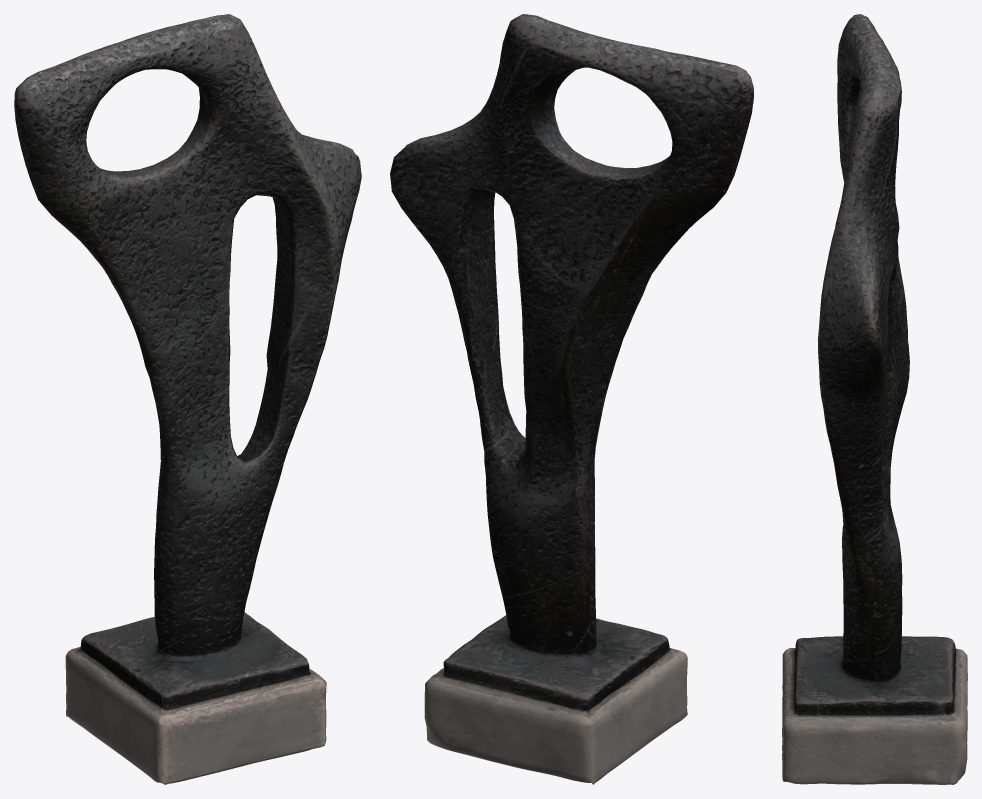
Rendered from Figure (Archaean).glb.
3 renders of one model, left to right at view 1: azimuth 30°, elevation 25°; view 2: azimuth 150°, elevation 25°; view 3: azimuth 270°, elevation 25°, orthographic. The views are drawn at different scales.
Parts seen in each view (by area): view 1: FigureArchaean_low; view 2: FigureArchaean_low; view 3: FigureArchaean_low.
Boxes of the visible parts, x1=… form: FigureArchaean_low: x1=14, y1=14, x2=361, y2=784; FigureArchaean_low: x1=390, y1=14, x2=753, y2=784; FigureArchaean_low: x1=782, y1=14, x2=967, y2=784.
Size of the model in its own units: 1.36 by 2.61 by 0.6647.
Materials: 1 (1 with a texture image).
